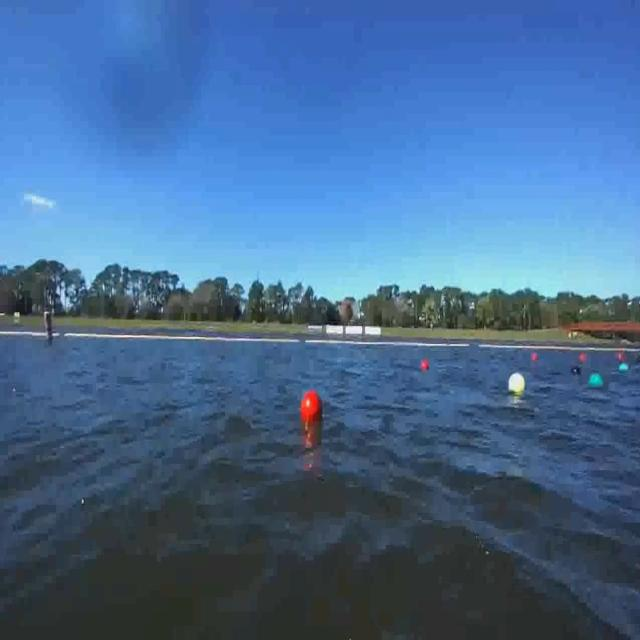black-buoy: (571, 365, 581, 375)
green-buoy: (589, 375, 604, 390), (619, 362, 630, 373)
red-buoy: (300, 392, 320, 427), (421, 359, 430, 370), (534, 353, 541, 361), (580, 353, 586, 362)
yellow-buoy: (507, 372, 524, 394)
